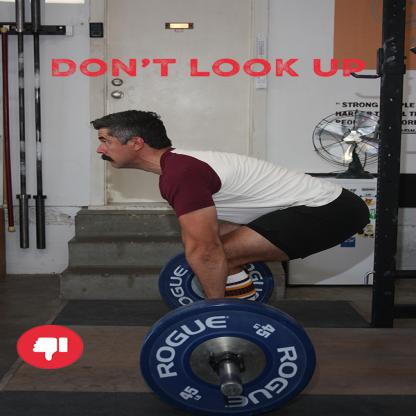Barbell: (130, 292, 334, 416)
